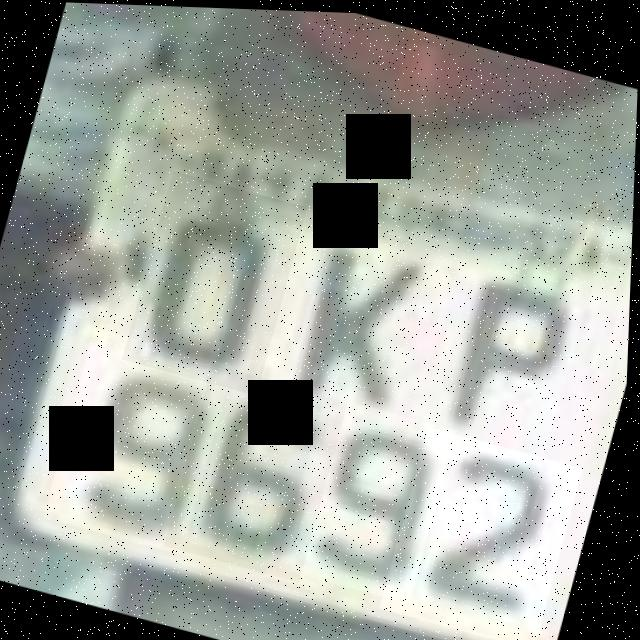2: (382, 422, 587, 640)
6: (166, 361, 352, 581)
9: (46, 326, 236, 554), (281, 391, 460, 602)
K: (264, 217, 455, 431)
O: (124, 168, 310, 395)
P: (424, 247, 594, 479)
